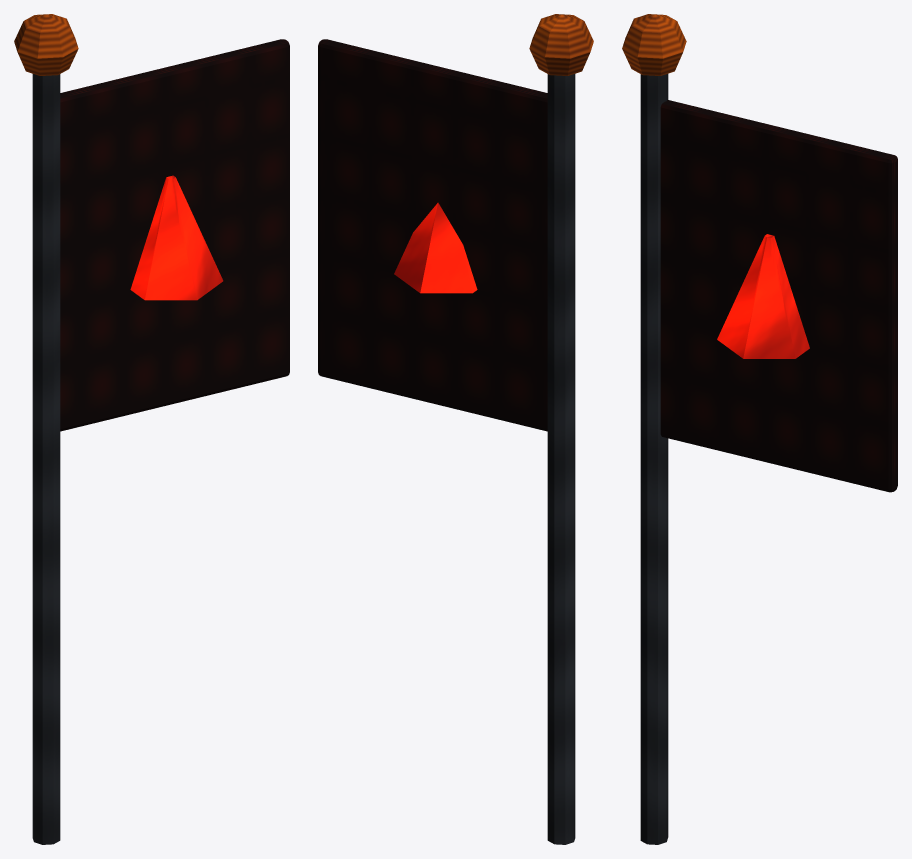
File: SM_FC_EmberBanner.fbx
3 views of the same model, side by side, from view 1: azimuth 30°, elevation 25°; view 2: azimuth 150°, elevation 25°; view 3: azimuth 330°, elevation 25° (orthographic).
Parts seen in each view (by area): view 1: SM_FC_EmberBanner; view 2: SM_FC_EmberBanner; view 3: SM_FC_EmberBanner.
Part boxes in pixels (x1,y1,x2,y2): SM_FC_EmberBanner: (14,14,289,844); SM_FC_EmberBanner: (318,14,593,844); SM_FC_EmberBanner: (622,14,897,844).
Size of what is drawn, in the model's own units: 1.31 by 3.81 by 0.44.
